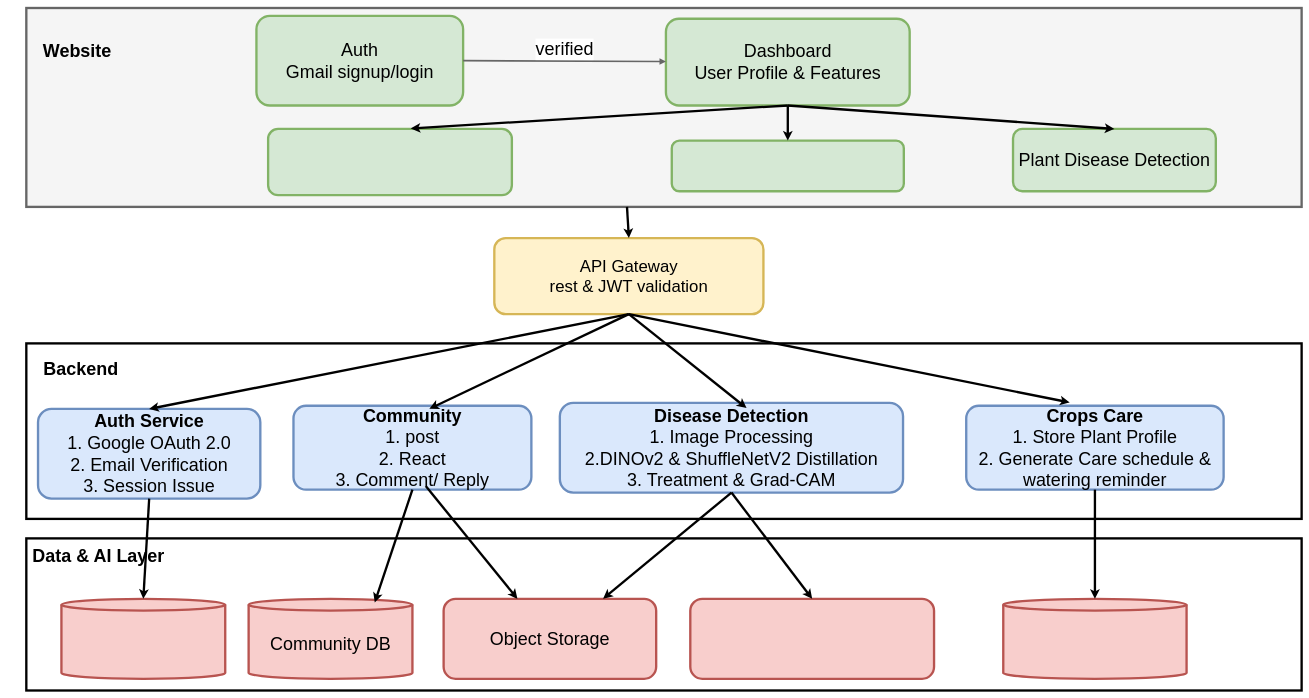
Some shapes in this 1309 by 698 pixel diagram are drawn without their labels. Here are the shapes that lost their labels. From the top down, the centre of each, then its label:
(x=390, y=162): Community post, react, comment
(x=787, y=165): Crops Care Plant details-> remainder
(x=143, y=638): User DB
(x=812, y=638): Disease & Treatment DB
(x=1095, y=638): Crops Care DB
